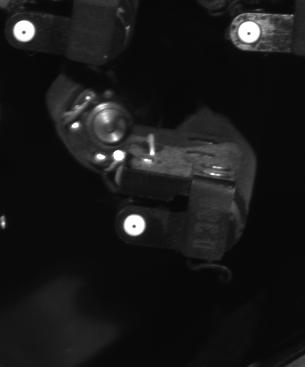fiber: (117, 207, 156, 246), (231, 16, 268, 49), (11, 15, 43, 45)
